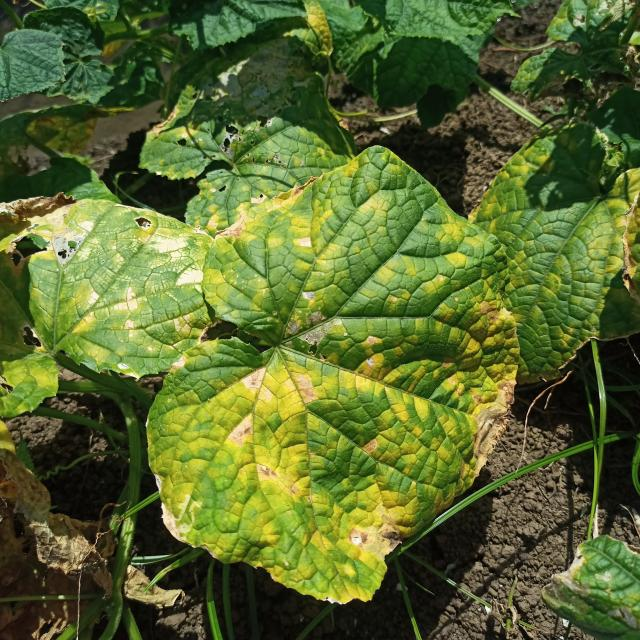disease_cucumber: (148, 146, 521, 602), (2, 197, 204, 386)
